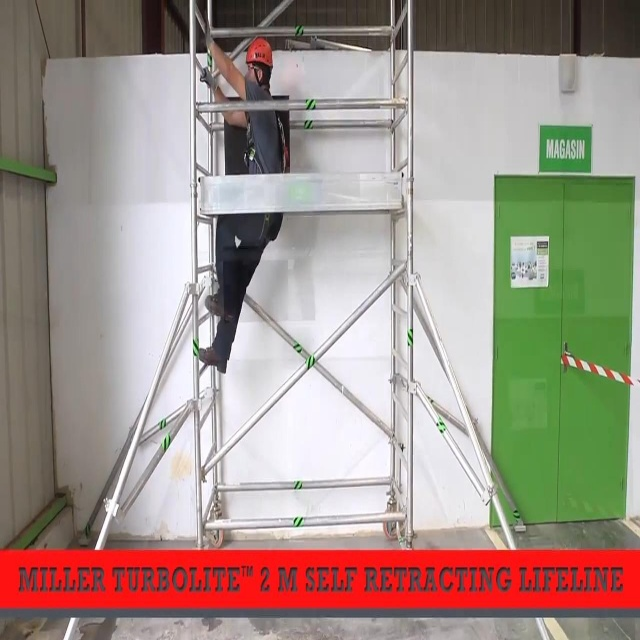Arnes_seguridad: (245, 96, 294, 244)
